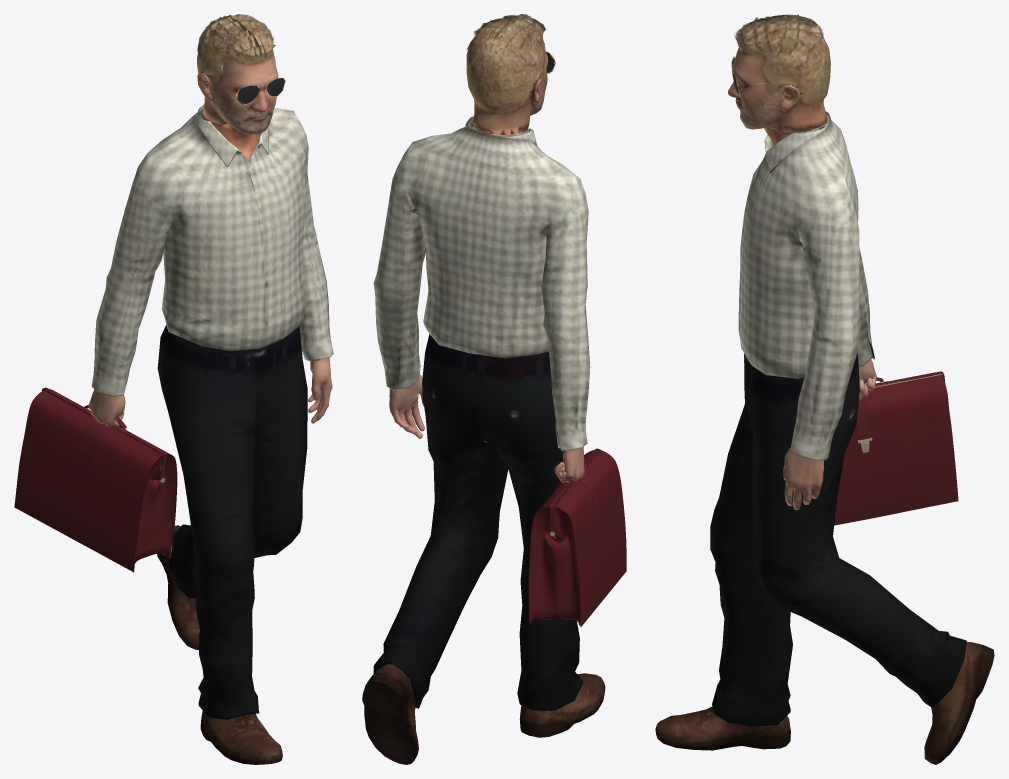
The picture shows the model from 3 angles, left to right: view 1: azimuth 30°, elevation 25°; view 2: azimuth 150°, elevation 25°; view 3: azimuth 270°, elevation 25°; orthographic projection. The views are drawn at different scales.
Parts seen in each view (by area): view 1: p03808; view 2: p03808; view 3: p03808.
Part boxes in pixels (<box>): p03808: <box>14,14,333,764</box>; p03808: <box>362,14,626,764</box>; p03808: <box>655,14,994,764</box>.
Bounding box in the file's own units: 0.6432 × 1.68 × 0.702.
Materials: 1 (1 with a texture image).
